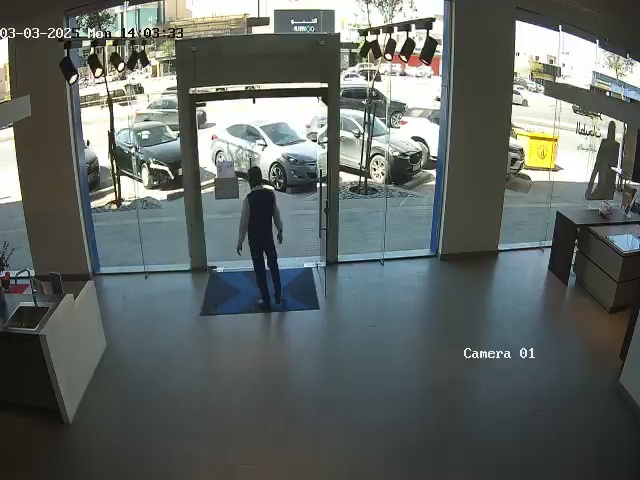employee: (236, 166, 284, 309)
